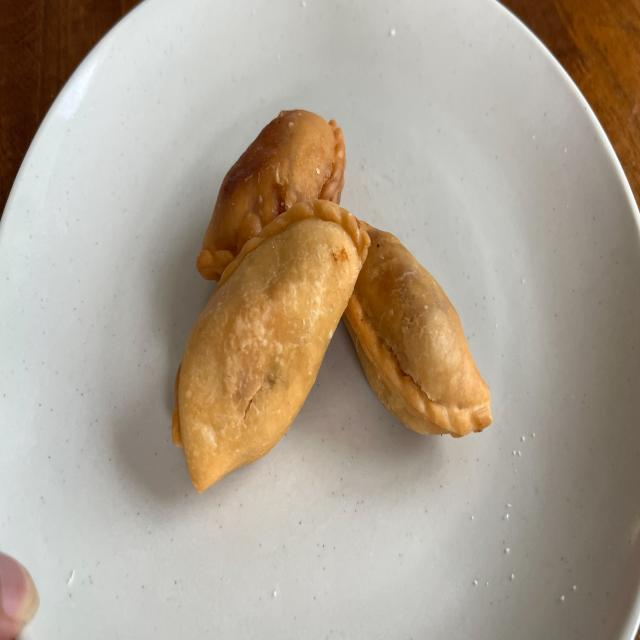karipap: (172, 200, 370, 491), (344, 222, 492, 438), (196, 109, 346, 280)
